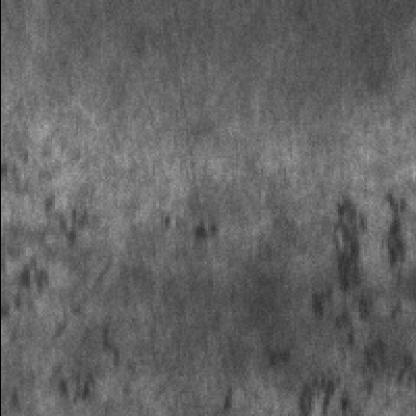rolled-in_scale: (9, 152, 128, 412), (318, 179, 416, 410)
